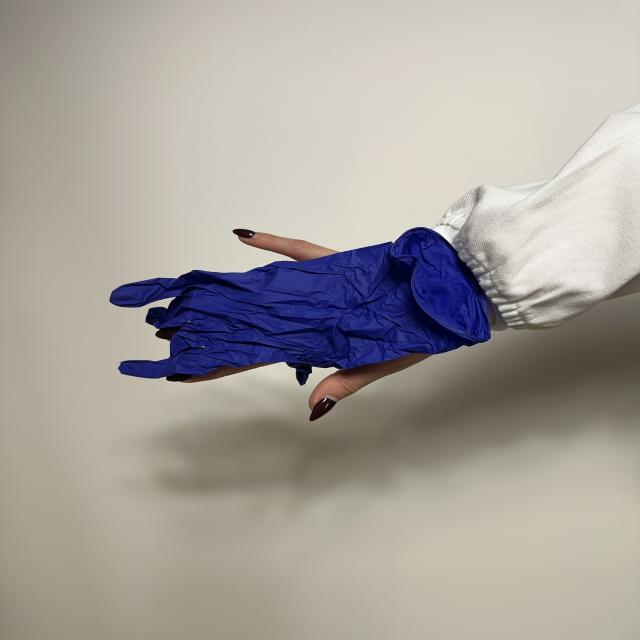glove_not_fitted: (110, 228, 490, 421)
